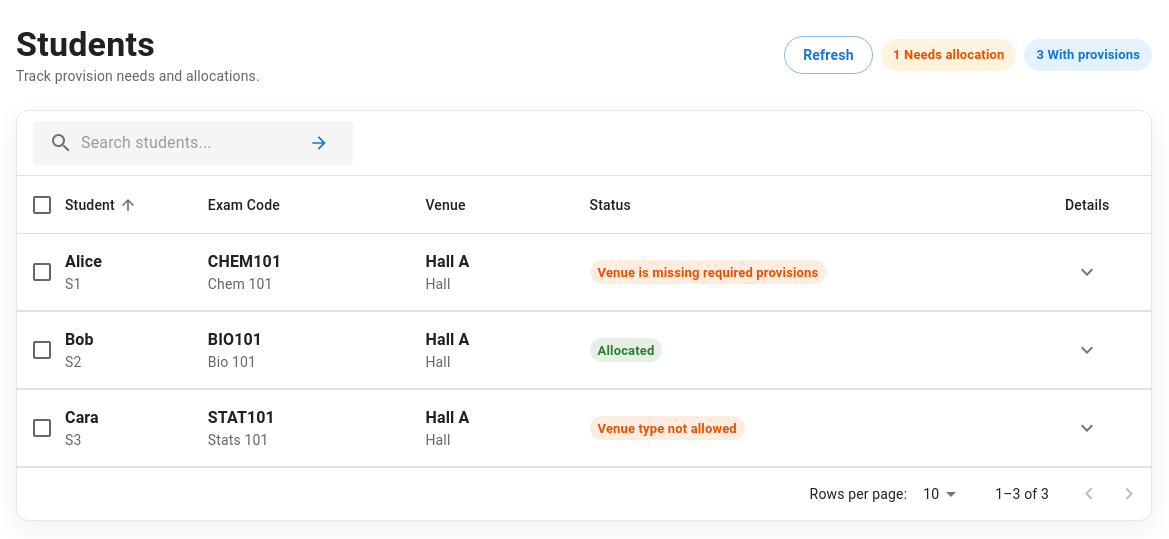
it: AdminStudents manual allocation › refreshes allocations and shows snackbar
Expected: the heading "Students" is shown, [16,24,155,64]
Step 1. Click the button "Refresh" → [828, 55], box [784,36,873,74]
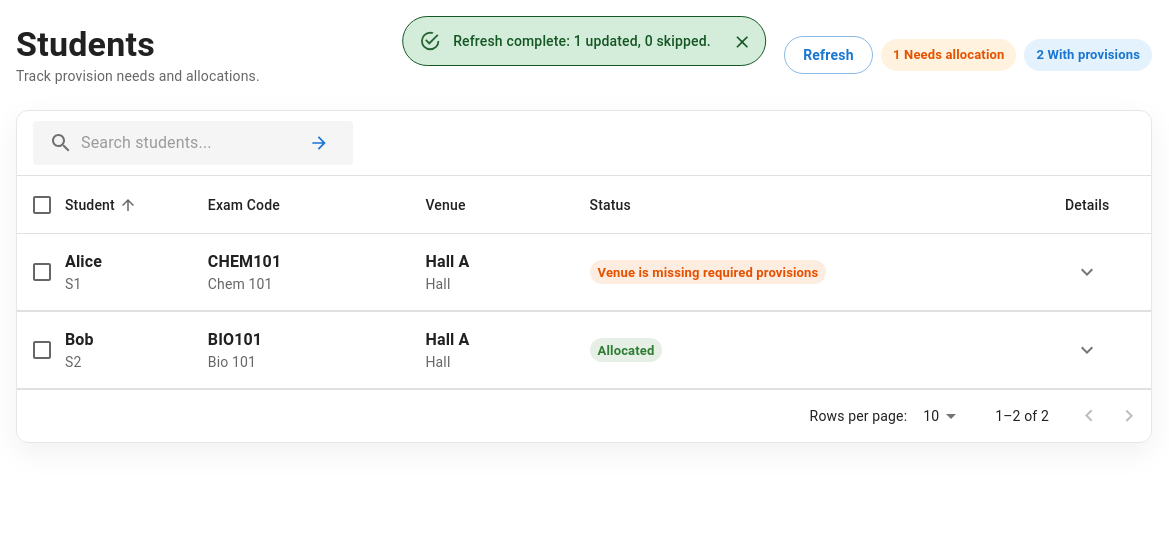
Expected: the text "Refresh complete: 1 updated, 0 skipped." is shown, [453,33,711,49]
